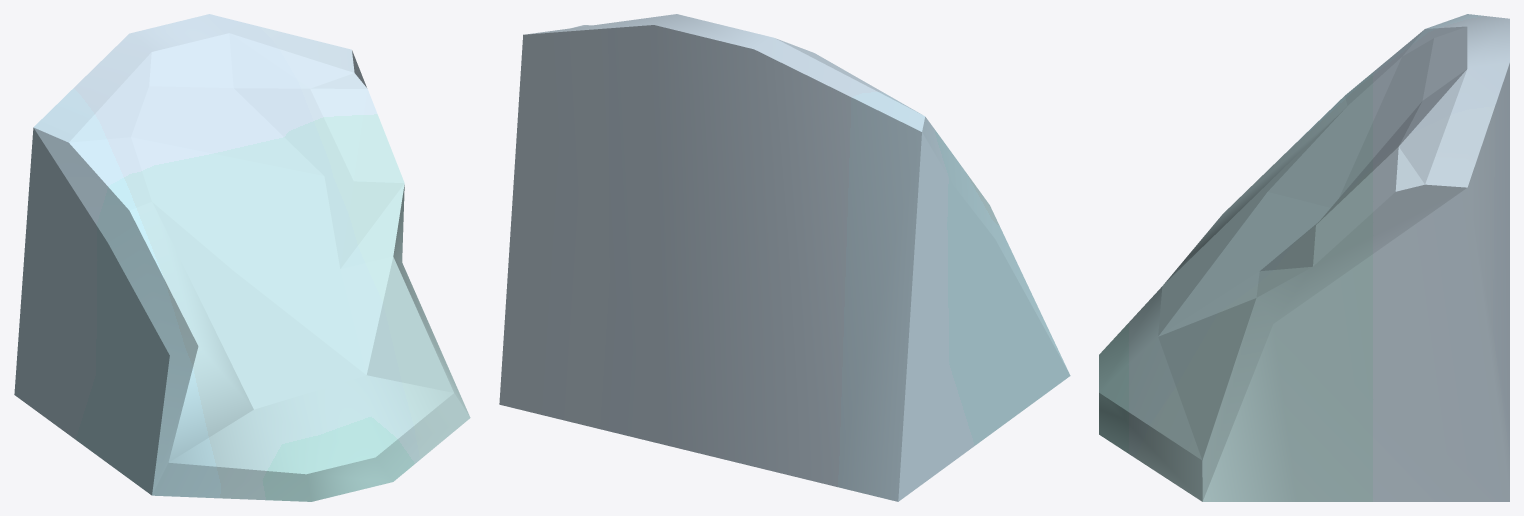
File: SS_RampIce.fbx
3 renders of one model, left to right at view 1: azimuth 30°, elevation 25°; view 2: azimuth 150°, elevation 25°; view 3: azimuth 270°, elevation 25°, orthographic. The views are drawn at different scales.
Visible parts, largest first — view 1: RampIce; view 2: RampIce; view 3: RampIce.
Boxes of the visible parts, <box> form: RampIce: <box>14,14,470,501</box>; RampIce: <box>499,14,1070,501</box>; RampIce: <box>1099,14,1509,501</box>.
Size of the model in its own units: 2 by 2 by 2.
Materials: 1 (1 with a texture image).
